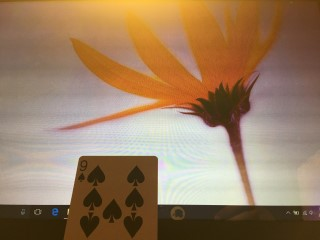NineOfSpades: (63, 157, 159, 240)
